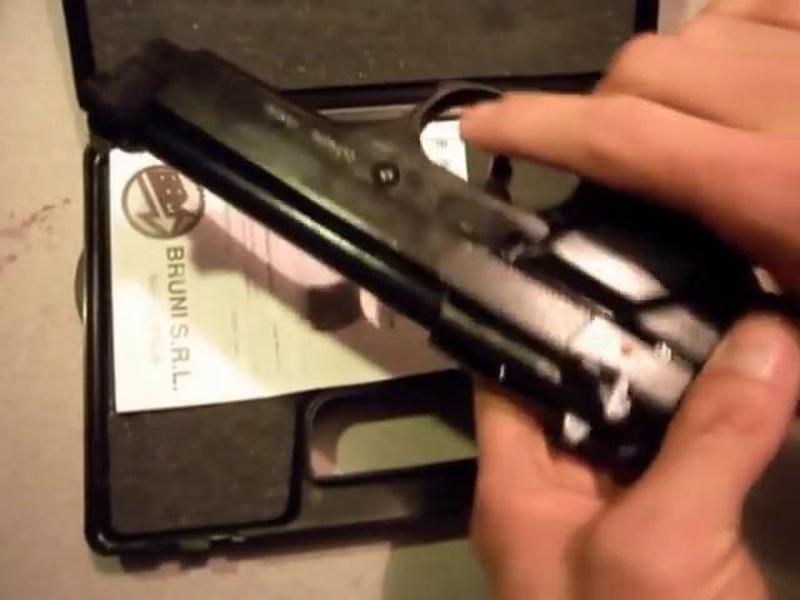Pistola: (84, 38, 776, 486)
